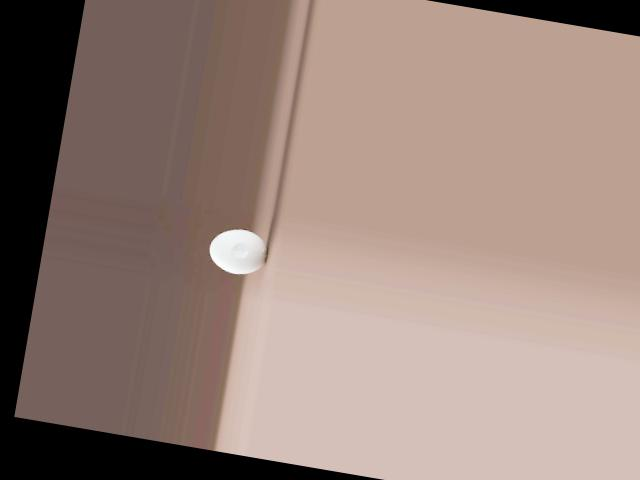egg: (205, 225, 270, 278)
